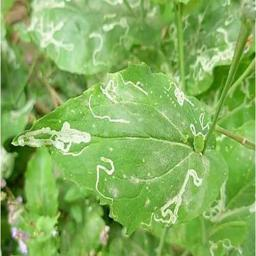liriomyza: (139, 168, 203, 232), (11, 120, 92, 156), (188, 25, 235, 81), (202, 178, 256, 222), (28, 14, 75, 51), (87, 92, 131, 124), (95, 155, 116, 211), (101, 13, 130, 46), (208, 237, 244, 256), (87, 31, 105, 67), (98, 77, 121, 104), (164, 80, 186, 107), (189, 112, 210, 140), (121, 76, 150, 96)
